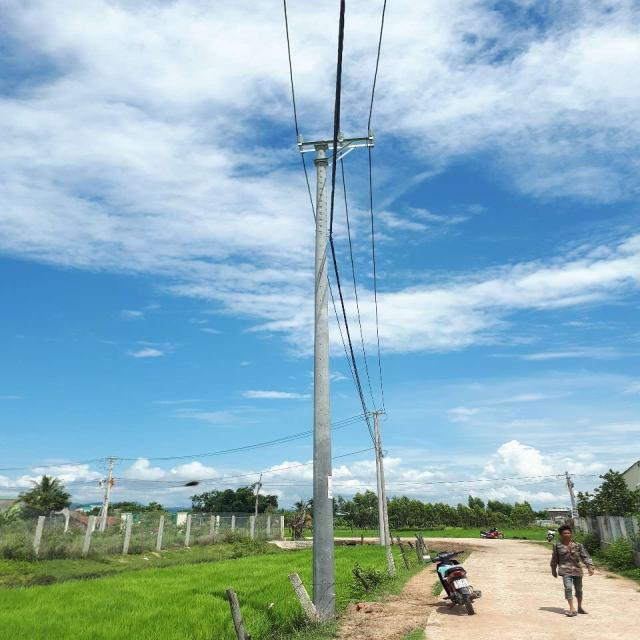light_pole: (310, 135, 340, 615)
